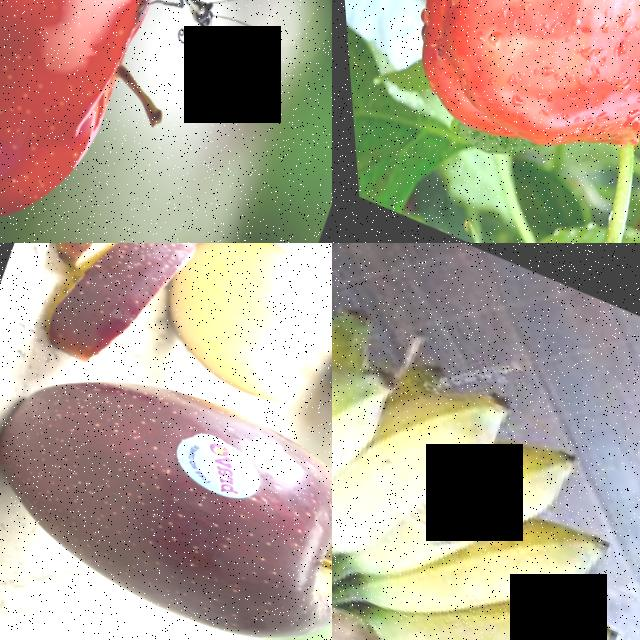apple: (0, 318, 332, 640), (0, 0, 241, 243), (139, 243, 332, 421), (36, 243, 211, 399), (23, 243, 198, 296)
banana: (332, 246, 640, 640)
bell pepper: (366, 0, 640, 203)
